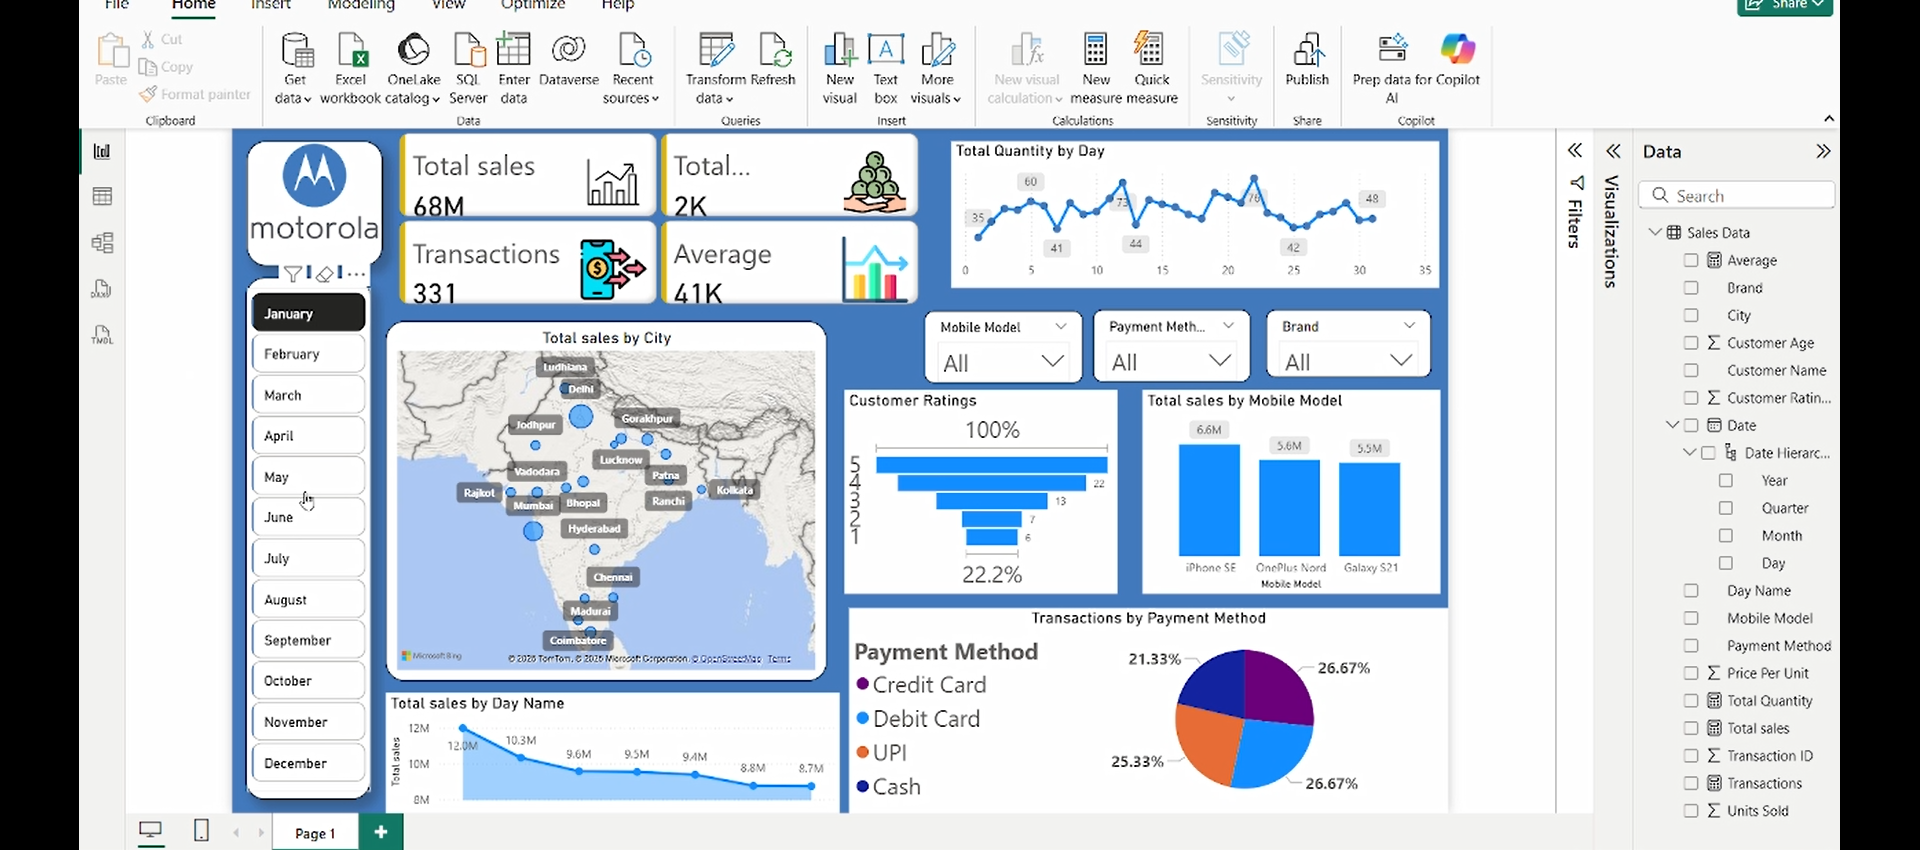

The page's visual inventory and layout, read from the dashboard file:
{"tool":"powerbi","page":{"name":"Page 1","canvas":[1280,720],"ordinal":0},"visuals":[{"type":"shape","box":[15.7,13.3,142.4,131.5],"z":0},{"type":"image","box":[15.7,0,142.4,132.7],"z":1000},{"type":"shape","box":[14.5,156.8,131.5,548.9],"z":2000},{"type":"advancedSlicerVisual","fields":{"Values":["Sales Data.Date.Variation.Date Hierarchy.Month"]},"box":[15.7,167.7,130.3,529.6],"z":3000},{"type":"cardVisual","fields":{"Data":["Sales Data.Total sales","Sales Data.Total Quantity","Sales Data.Transactions","Sales Data.Average"]},"box":[171.3,0,557.4,191.8],"z":4000},{"type":"map","fields":{"Category":["Sales Data.City"],"Size":["Sales Data.Total sales"]},"box":[161.9,203.1,463.8,378.7],"z":5000},{"type":"lineChart","fields":{"Y":["Sales Data.Total Quantity"],"Category":["Sales Data.Date.Variation.Date Hierarchy.Month","Sales Data.Date.Variation.Date Hierarchy.Day"]},"box":[756.4,13.3,513.9,154.4],"z":6000},{"type":"clusteredColumnChart","fields":{"Category":["Sales Data.Mobile Model"],"Y":["Sales Data.Total sales"]},"box":[957.9,275.1,313.7,214.7],"z":7000},{"type":"pieChart","fields":{"Category":["Sales Data.Payment Method"],"Y":["Sales Data.Transactions"]},"box":[649.1,504.3,631,216],"z":8000},{"type":"funnel","title":"Customer Ratings ","fields":{"Category":["Sales Data.Customer Ratings"],"Y":["CountNonNull(Sales Data.Customer Ratings)"]},"box":[644.2,275.1,287.1,214.7],"z":9000},{"type":"areaChart","fields":{"Category":["Sales Data.Day Name"],"Y":["Sales Data.Total sales"]},"box":[161.9,594.2,477.5,126.2],"z":10000},{"type":"slicer","fields":{"Values":["Sales Data.Mobile Model"]},"box":[728.7,191.8,166.5,76],"z":11000},{"type":"slicer","fields":{"Values":["Sales Data.Payment Method"]},"box":[906,190.6,165.3,76],"z":12000},{"type":"slicer","fields":{"Values":["Sales Data.Brand"]},"box":[1088.2,190.6,173.7,71.2],"z":13000}]}

Visuals, with their boxes on the page's 1280x720 design canvas (x1, y1, x2, y2). These are canvas units, not pixel positions in the 1920x850 screenshot, which may show the page scaled, cropped or inside an application window:
shape: [16, 13, 158, 145]
image: [16, 0, 158, 133]
shape: [14, 157, 146, 706]
advancedSlicerVisual - Sales Data.Date.Variation.Date Hierarchy.Month: [16, 168, 146, 697]
cardVisual - Sales Data.Total sales x Sales Data.Total Quantity: [171, 0, 729, 192]
map - Sales Data.City x Sales Data.Total sales: [162, 203, 626, 582]
lineChart - Sales Data.Total Quantity x Sales Data.Date.Variation.Date Hierarchy.Month: [756, 13, 1270, 168]
clusteredColumnChart - Sales Data.Mobile Model x Sales Data.Total sales: [958, 275, 1272, 490]
pieChart - Sales Data.Payment Method x Sales Data.Transactions: [649, 504, 1280, 720]
"Customer Ratings " funnel: [644, 275, 931, 490]
areaChart - Sales Data.Day Name x Sales Data.Total sales: [162, 594, 639, 720]
slicer - Sales Data.Mobile Model: [729, 192, 895, 268]
slicer - Sales Data.Payment Method: [906, 191, 1071, 267]
slicer - Sales Data.Brand: [1088, 191, 1262, 262]
